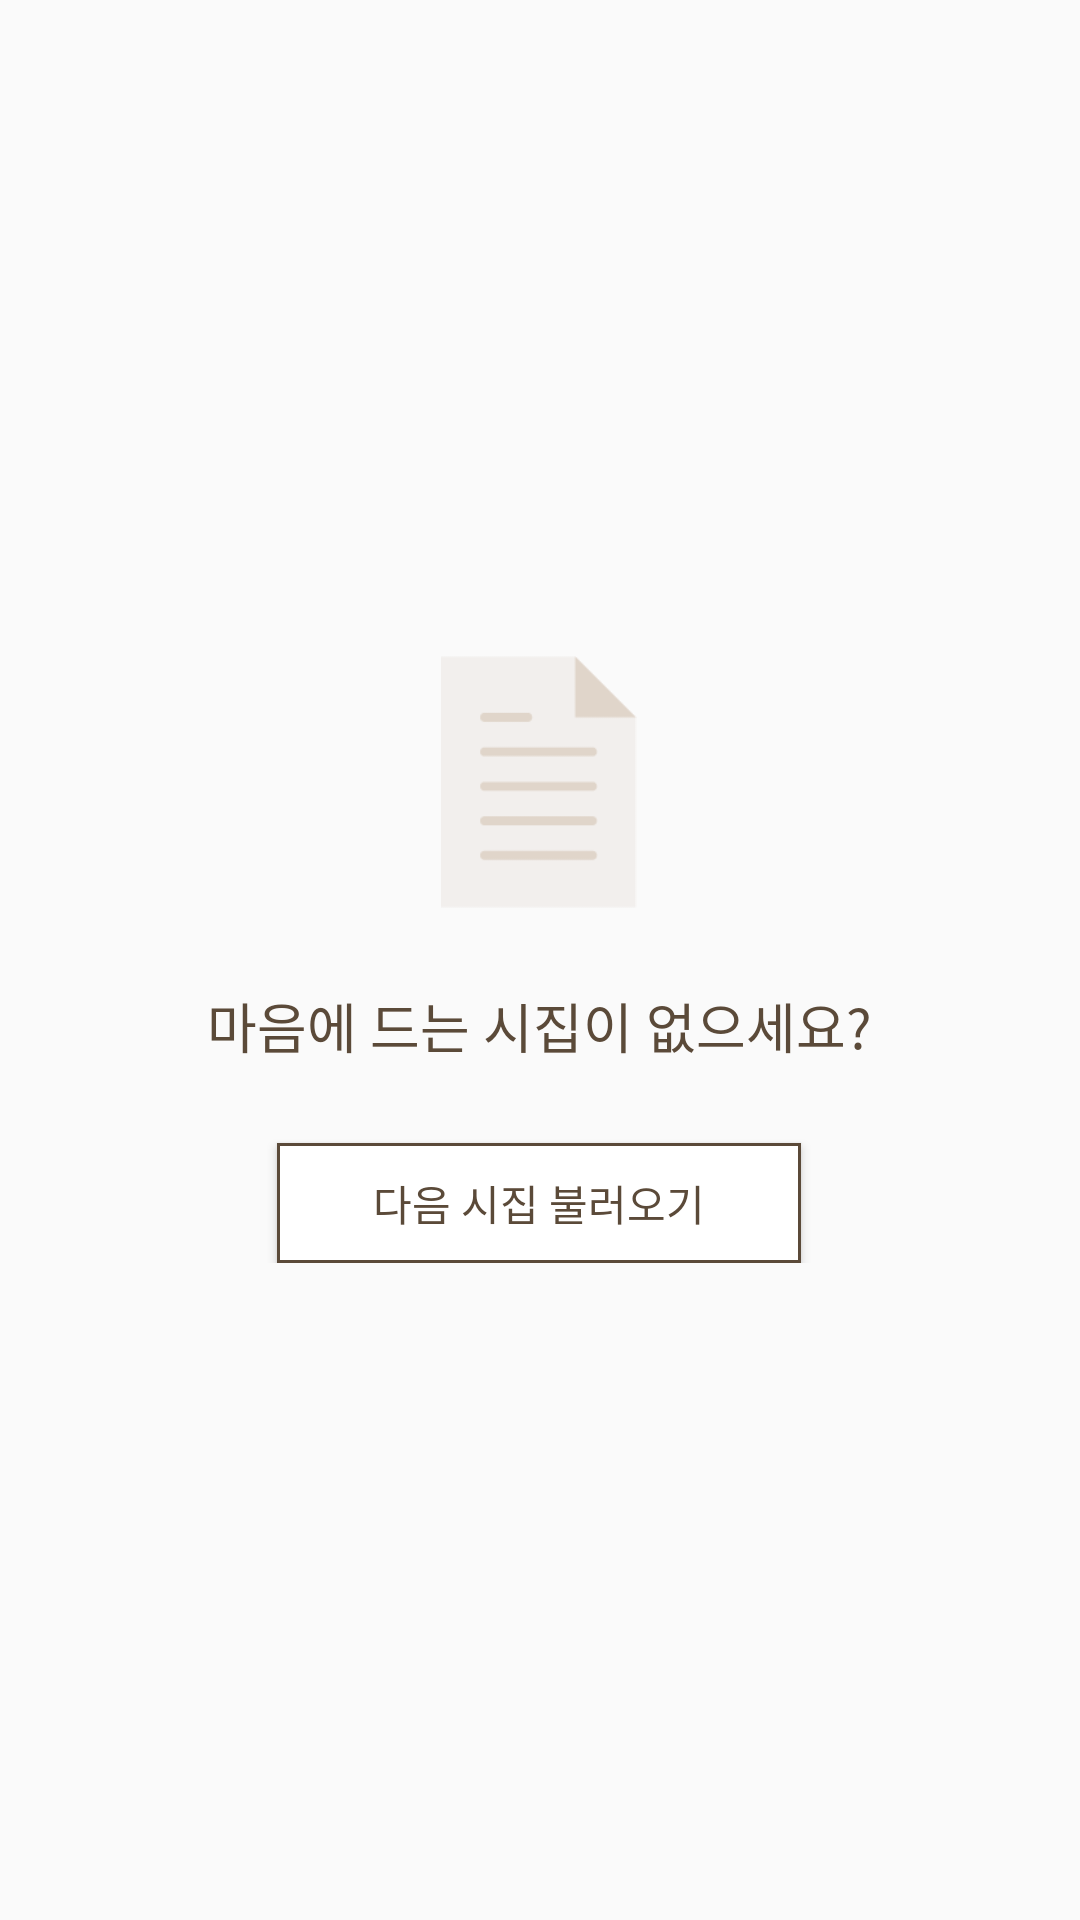

Icon click points for this 1080px x 1920px phone screenshot, format [x,y]:
paper: [539,781]
